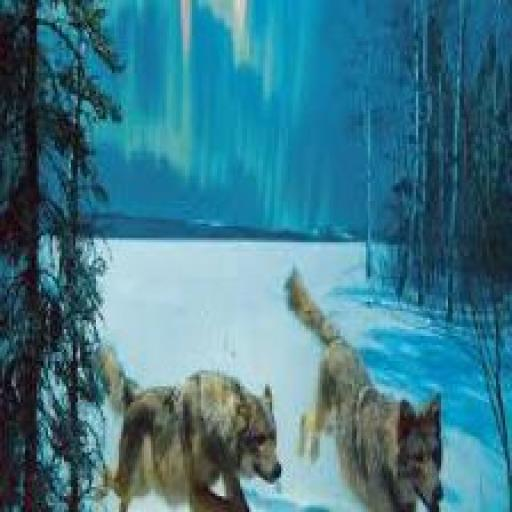wolf: (281, 265, 461, 511), (84, 324, 284, 512)
